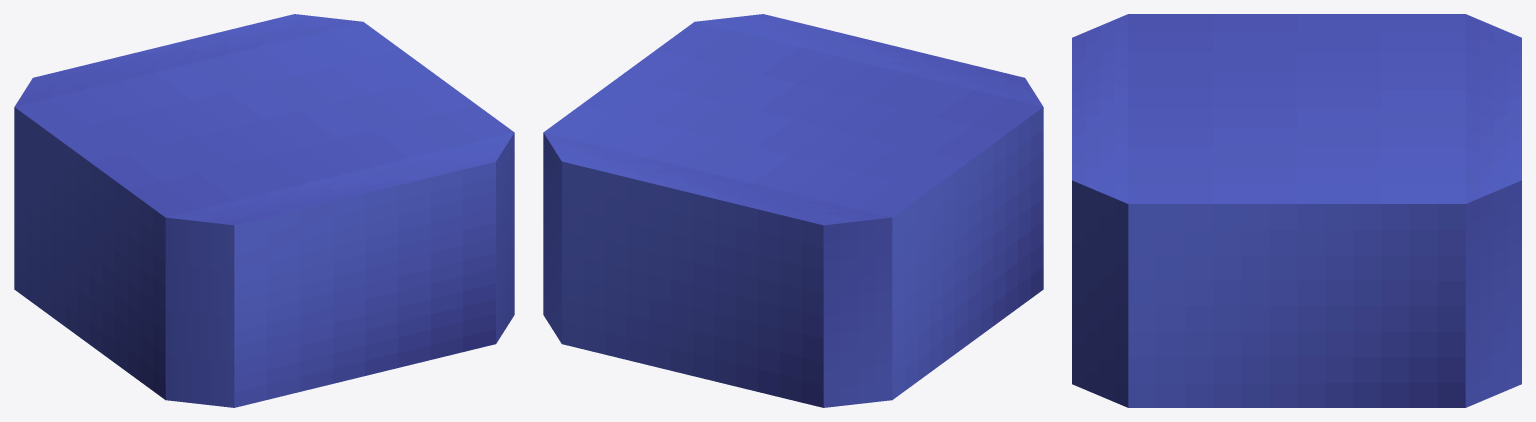
The model's file is MNM_NN_EXT.obj.
The picture shows the model from 3 angles, left to right: view 1: azimuth 30°, elevation 25°; view 2: azimuth 150°, elevation 25°; view 3: azimuth 270°, elevation 25°; orthographic projection. The views are drawn at different scales.
Parts seen in each view (by area): view 1: Cube.002; view 2: Cube.002; view 3: Cube.002.
Boxes of the visible parts, bbox=[...] form: Cube.002: bbox=[14, 14, 514, 407]; Cube.002: bbox=[543, 14, 1043, 407]; Cube.002: bbox=[1072, 14, 1521, 407].
Bounding box in the file's own units: 8 × 4 × 8.
1 material, 1 textured.
